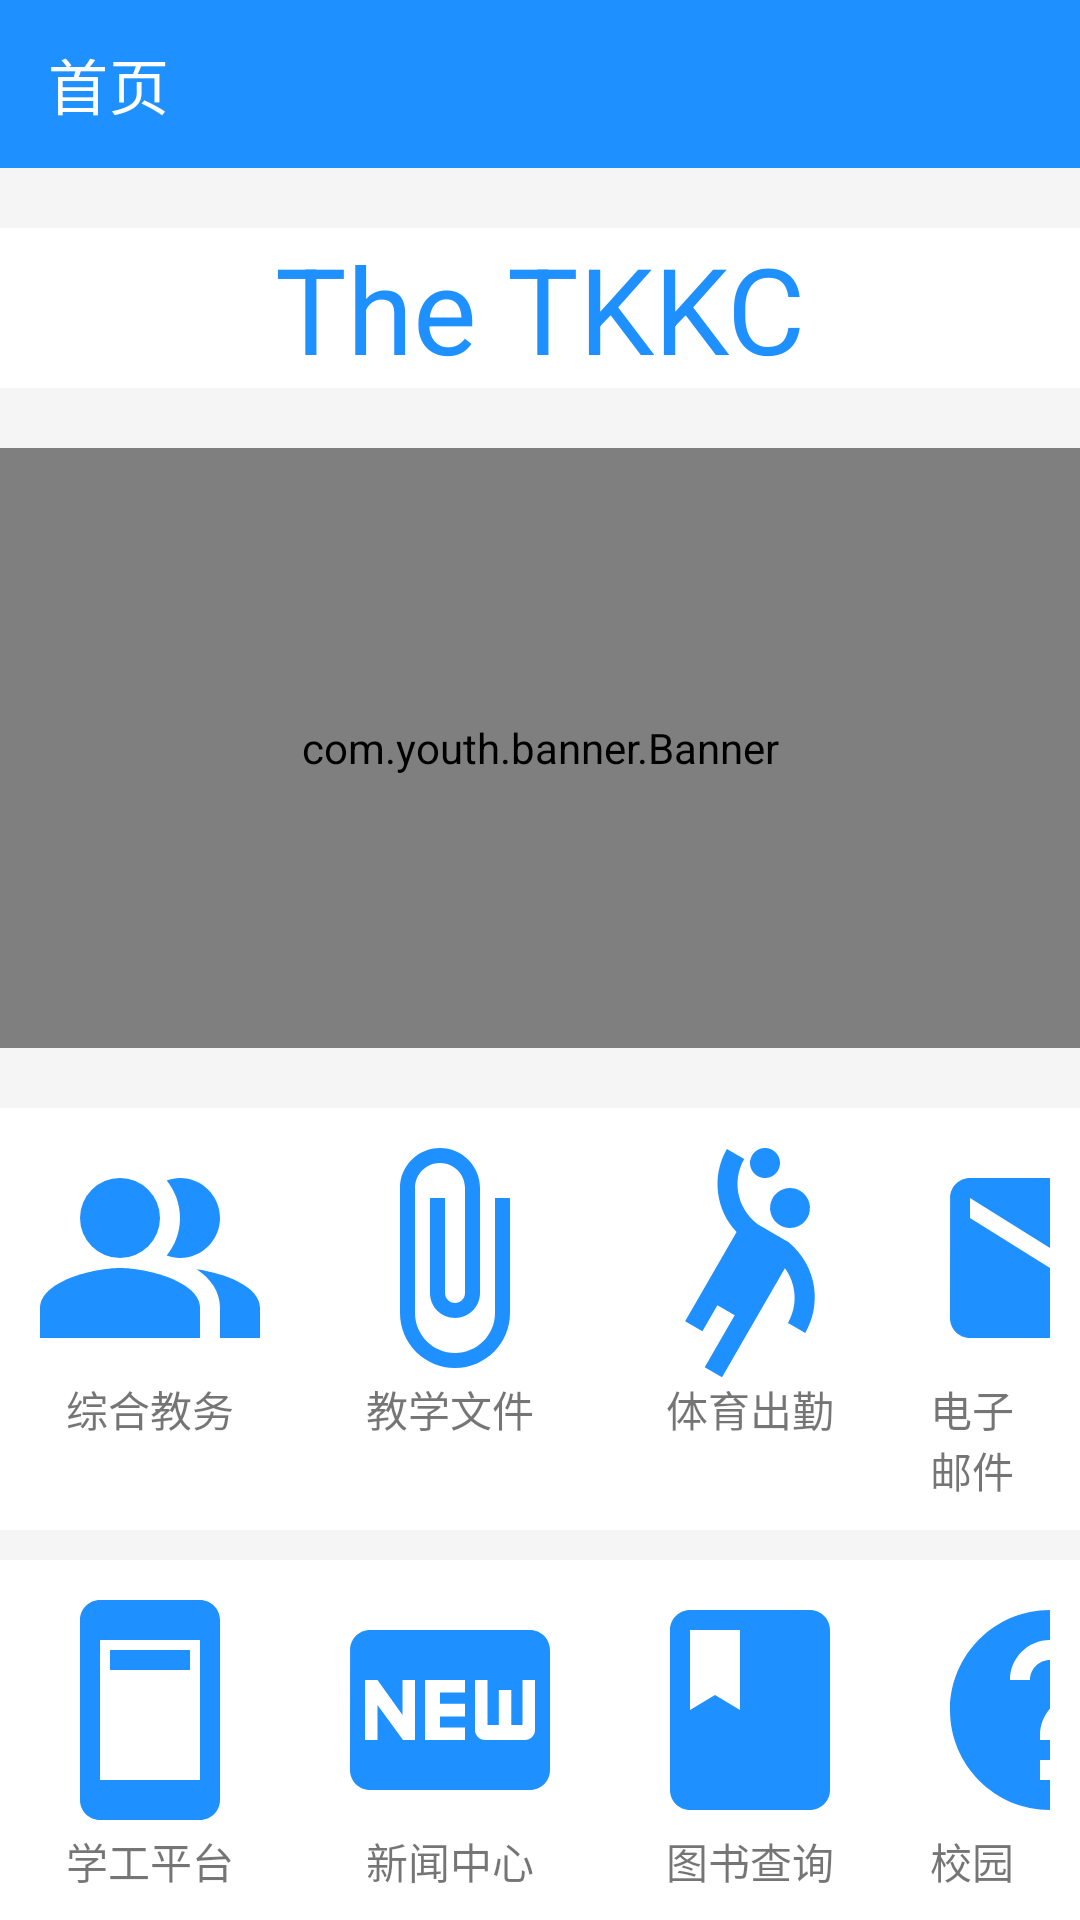

Point at icon controls on the screen. Image size 1080 × 1920, points as point (x, y).
ad units: point (150, 1710)
attach file: point (455, 1258)
people: point (150, 1258)
sports handball: point (750, 1262)
